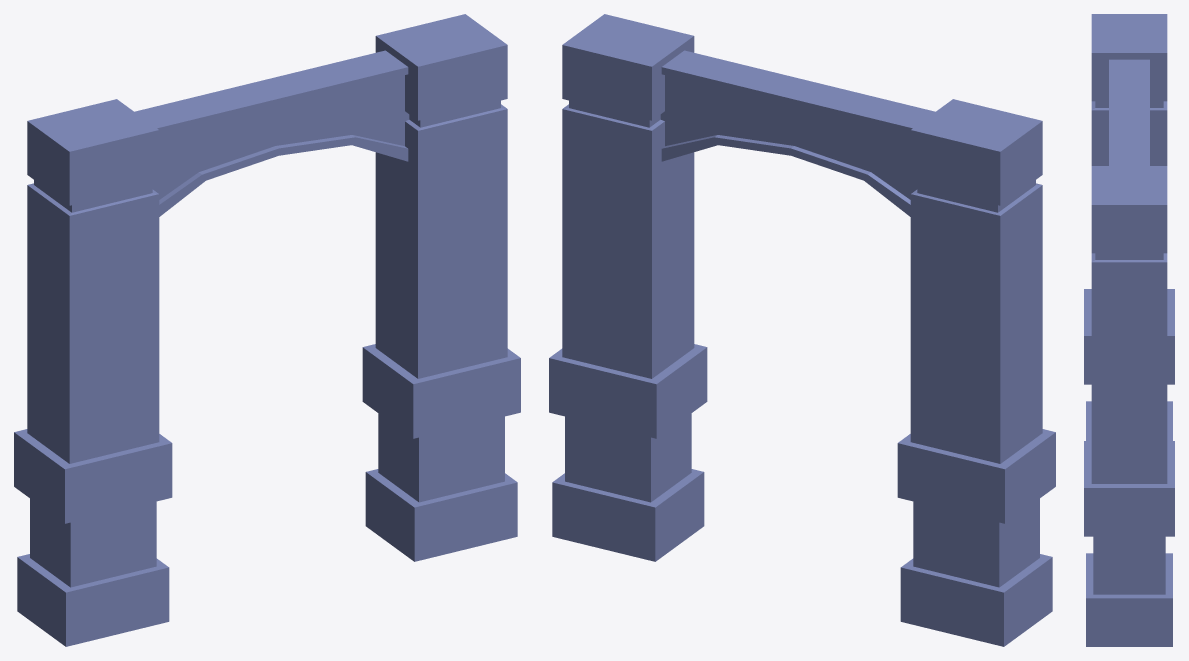
Rendered from bridge_2_column_big.fbx.
3 renders of one model, left to right at view 1: azimuth 30°, elevation 25°; view 2: azimuth 150°, elevation 25°; view 3: azimuth 270°, elevation 25°, orthographic. The views are drawn at different scales.
Visible parts, largest first — view 1: bridge_2_column_big; view 2: bridge_2_column_big; view 3: bridge_2_column_big.
Part boxes in pixels (<box>): bridge_2_column_big: <box>14,14,520,646</box>; bridge_2_column_big: <box>549,14,1055,646</box>; bridge_2_column_big: <box>1084,14,1174,646</box>.
Bounding box in the file's own units: 10.5 × 10.8 × 2.02.
